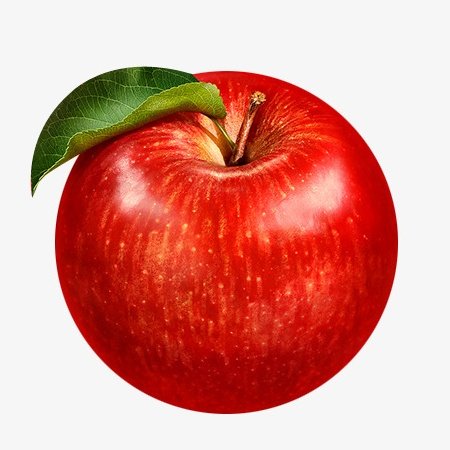apple: (50, 69, 398, 415)
